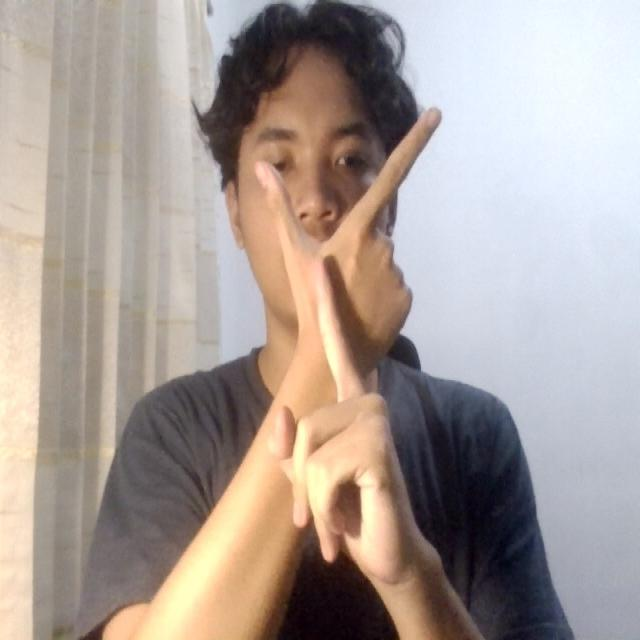No: (216, 94, 459, 574)
